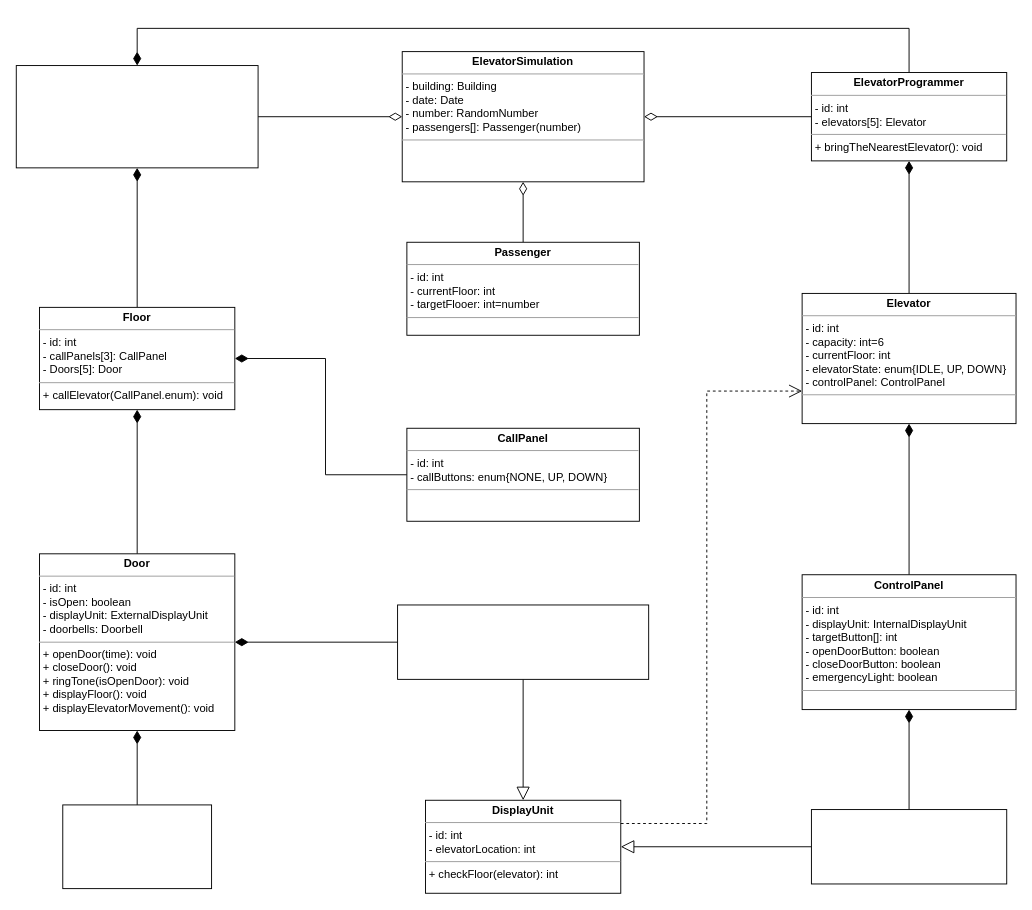
Some shapes in this 1032 by 910 pixel diagram are drawn without their labels. The shapes that lost their labels are listed below. From the top down, each one's box as (x1, y1, x2, y2) in pixels, then its label:
(15, 65, 258, 168): Building - id: int - floors[12]: Floor - elevatorProgrammers: ElevatorProgrammer
(397, 604, 649, 679): ExternalDisplayUnit - elevatorMovement: enum{NONE, UP, DOWN}
(62, 804, 212, 889): Doorbell - id: int - ringTone: boolean
(810, 809, 1007, 884): InternalDisplayUnit
